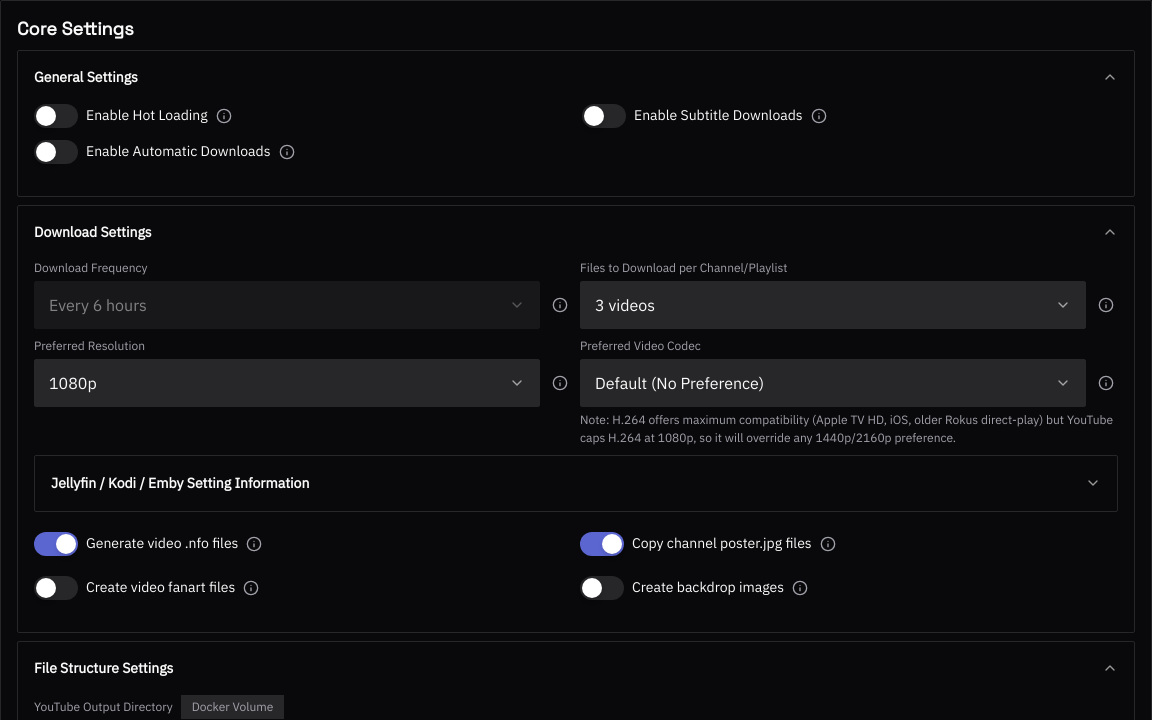
CoreSettingsSection Component › Files to Download per Channel Select › displays options 1-10 for default values
Click the button "3 videos".
click(632, 305)  # box [580,281,1086,329]
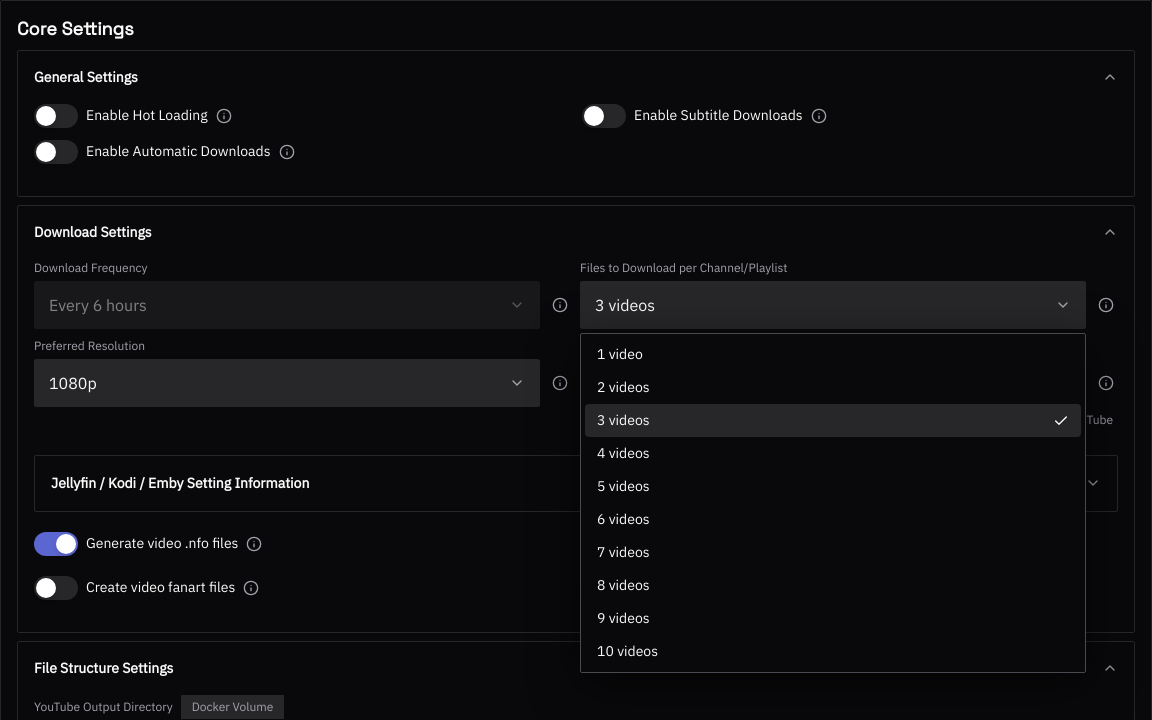
Expected: the option "1 video" is shown, [597,345,643,363]
Expected: the option "5 videos" is shown, [597,477,650,495]
Expected: the option "10 videos" is shown, [597,642,658,660]
